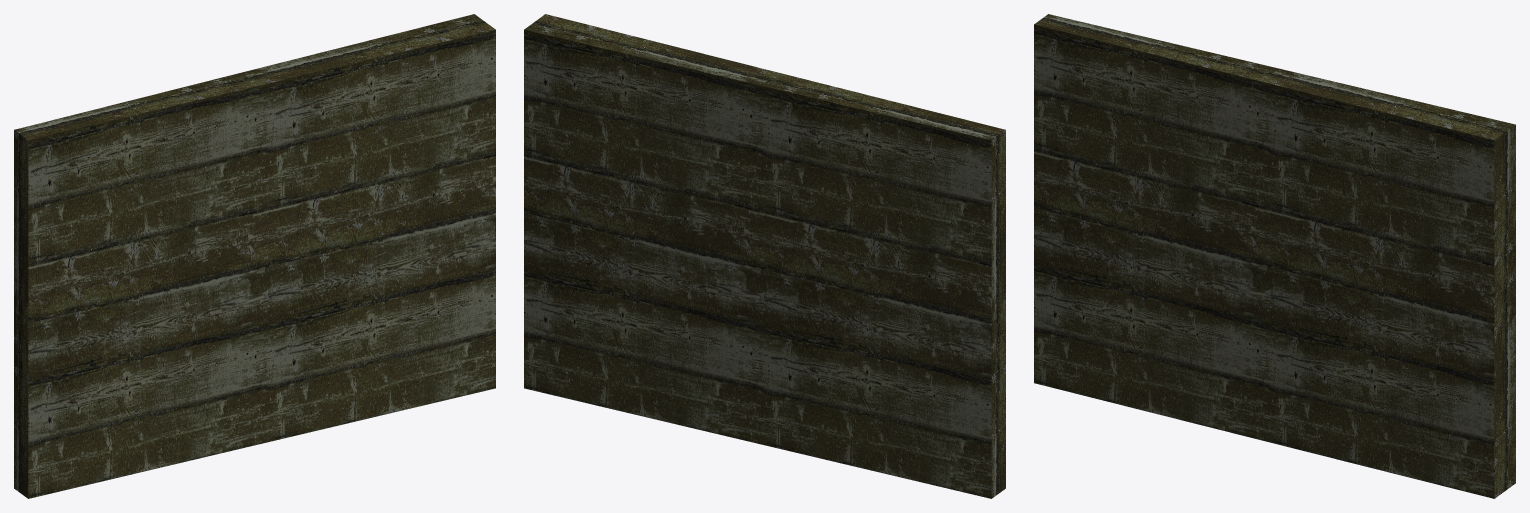
File: sciana6.glb
3 renders of one model, left to right at view 1: azimuth 30°, elevation 25°; view 2: azimuth 150°, elevation 25°; view 3: azimuth 330°, elevation 25°, orthographic.
Parts seen in each view (by area): view 1: zengin01; view 2: zengin01; view 3: zengin01.
Boxes of the visible parts, box(x1,y1,x2,y2) form: zengin01: box(14, 14, 495, 498); zengin01: box(524, 14, 1005, 498); zengin01: box(1034, 14, 1515, 498).
Bounding box in the file's own units: 11.03 × 8.15 × 0.8797.
1 material, 1 textured.
